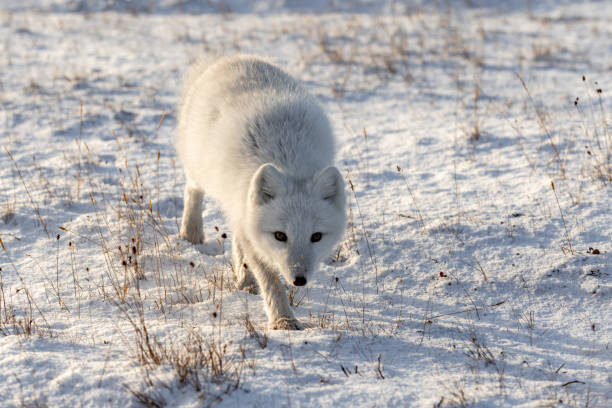arcticfox: (253, 182, 332, 296)
